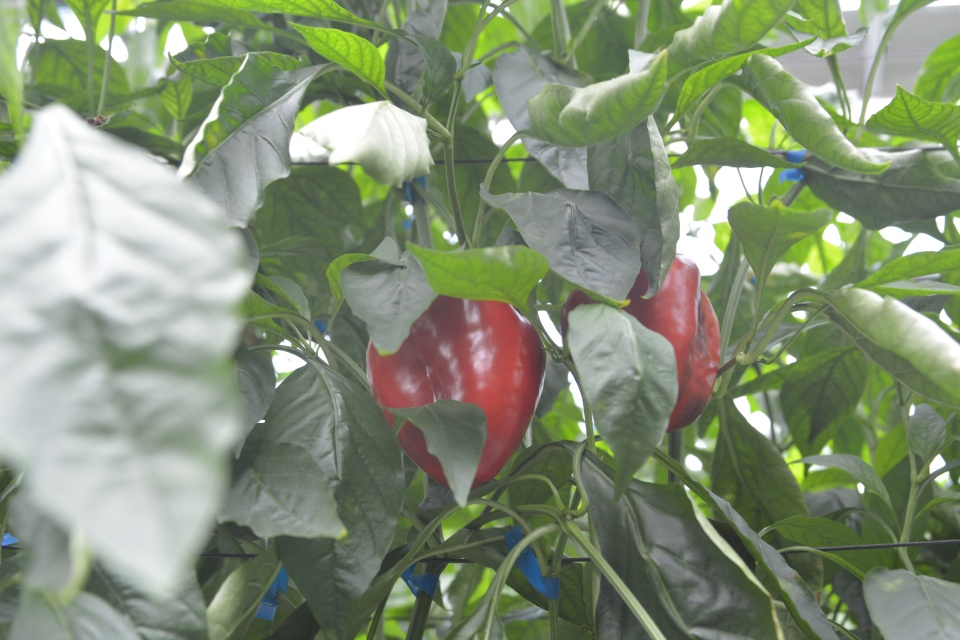fruit: (364, 292, 548, 492), (557, 252, 723, 436)
